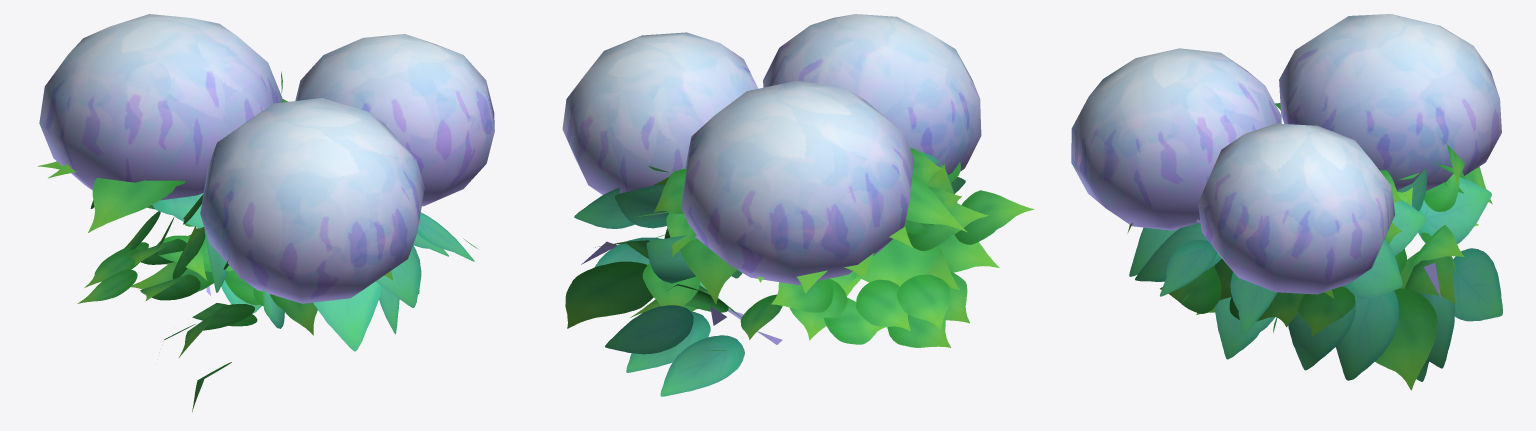
The picture shows the model from 3 angles, left to right: view 1: azimuth 30°, elevation 25°; view 2: azimuth 150°, elevation 25°; view 3: azimuth 270°, elevation 25°; orthographic projection. The views are drawn at different scales.
Parts seen in each view (by area): view 1: SM_F19bc; view 2: SM_F19bc; view 3: SM_F19bc.
Part boxes in pixels (x1,y1,x2,y2): SM_F19bc: [37, 14, 494, 412]; SM_F19bc: [562, 14, 1034, 396]; SM_F19bc: [1071, 14, 1502, 390].
Bounding box in the file's own units: 173 × 140 × 173.
1 material, 1 textured.
